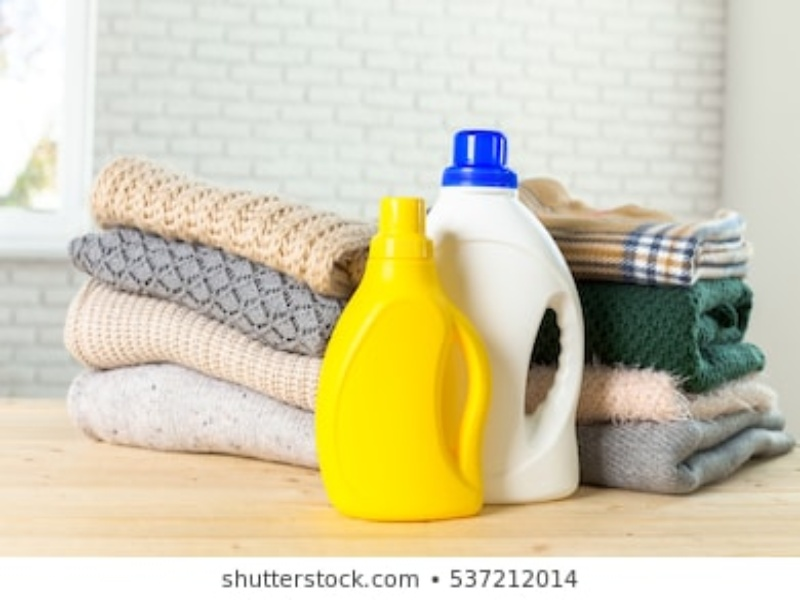detergent-bottle: (423, 124, 586, 500), (313, 195, 487, 523)
